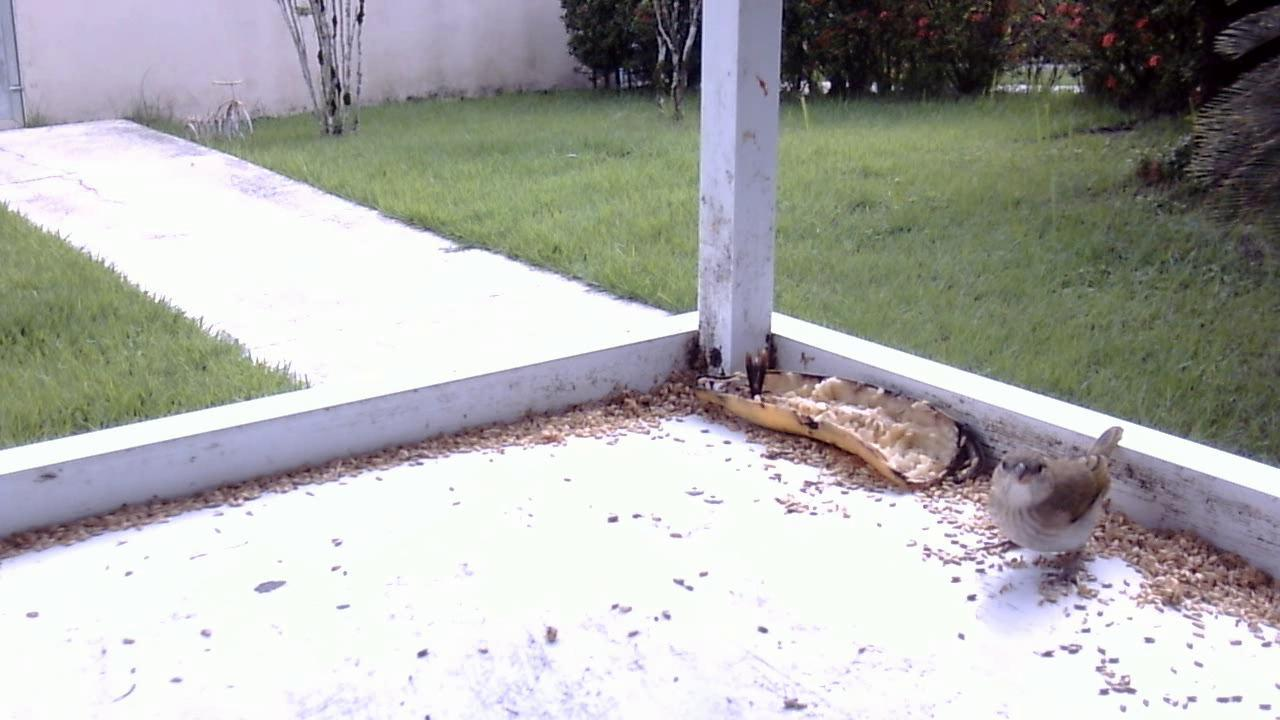canario_do_amazonas: (974, 415, 1125, 593)
